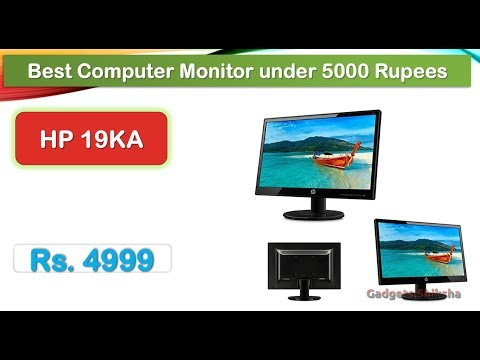hp-monitor-19ka: (250, 107, 383, 220)
